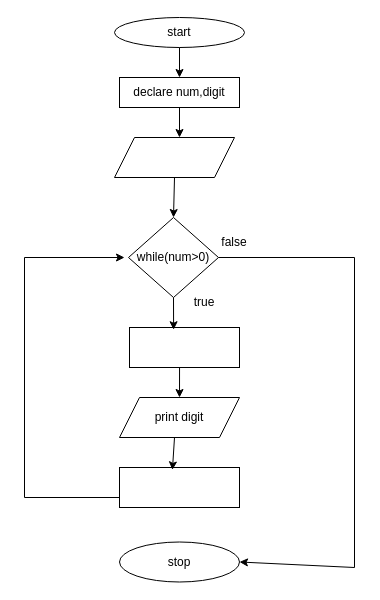
The diagram is 380 pixels wide and 600 high, and some of its shapes have lost their labels. Each missing label, with the centre of its shape:
"digit=num%10" goes at point 184,347.
"num=num/10" goes at point 179,487.
"read num and initialize digit=0" goes at point 174,157.
